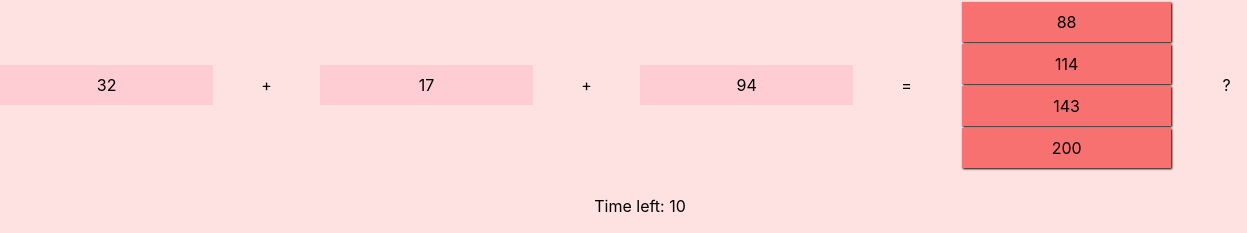
Choosing options › should show the correct icon and message when the correct number is clicked
Expected: the text "Correct!" is not shown
What coordinates should you click on to do the following:
click the cell "143"
I would click on:
 (1067, 106)
Its box is [962, 86, 1171, 126].
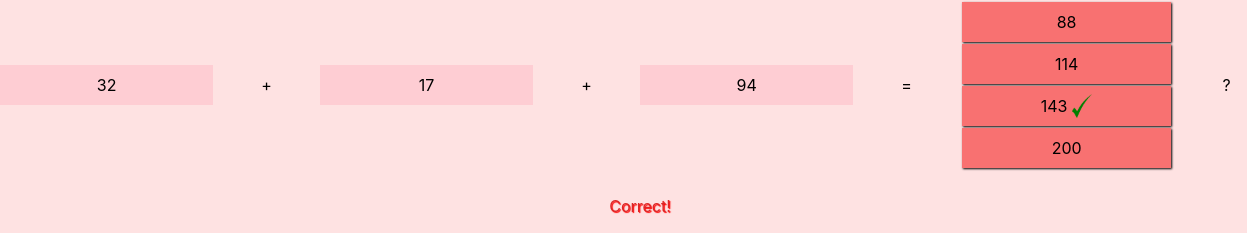
Expected: the picture with alt text "correct" is shown, [1072, 94, 1092, 118]
Expected: the text "Correct!" is shown, [609, 196, 671, 216]
